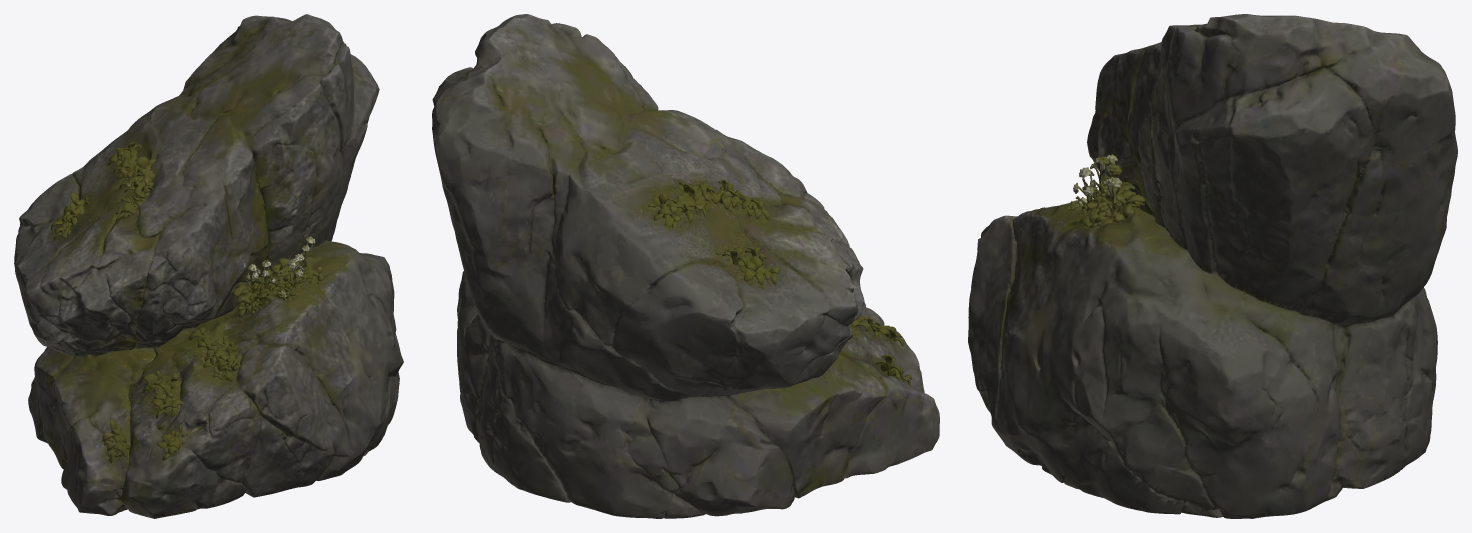
Rendered from Meshy_AI_moss_rock_b_0823030714_image-to-3d-texture.glb.
The picture shows the model from 3 angles, left to right: view 1: azimuth 30°, elevation 25°; view 2: azimuth 150°, elevation 25°; view 3: azimuth 270°, elevation 25°; orthographic projection. The views are drawn at different scales.
Parts seen in each view (by area): view 1: mesh_node; view 2: mesh_node; view 3: mesh_node.
Boxes of the visible parts, <box> form: mesh_node: <box>14,14,403,518</box>; mesh_node: <box>432,14,939,518</box>; mesh_node: <box>968,14,1457,518</box>.
Size of the model in its own units: 1.9 by 1.77 by 1.63.
Materials: 1 (1 with a texture image).
